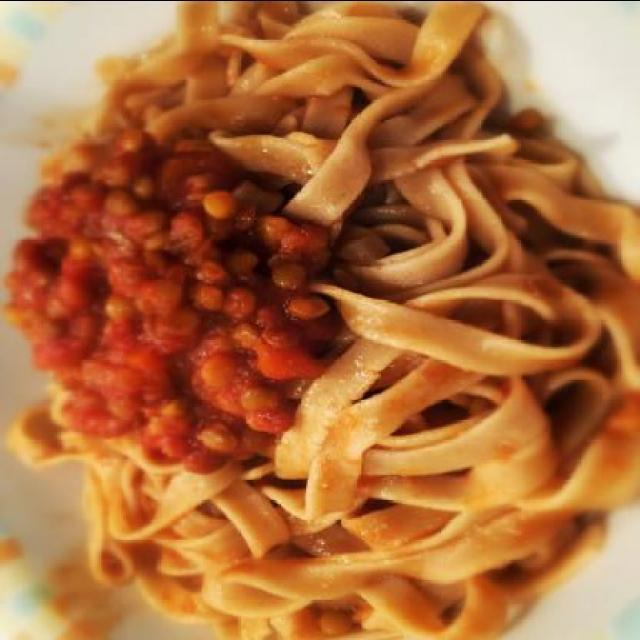Pasta al ragu: (8, 13, 588, 621)
